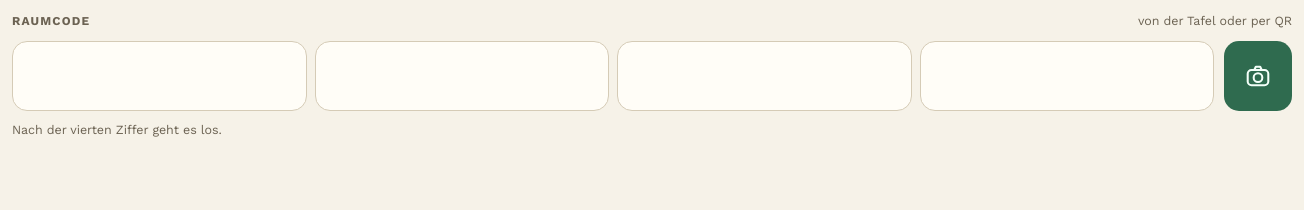
it: RoomCodeEntry › explains an incomplete code accessibly and clears the error
Type "12" into the field named "Ziffer 1" at point(159, 76), box [12,41,306,111]
Then press Enter
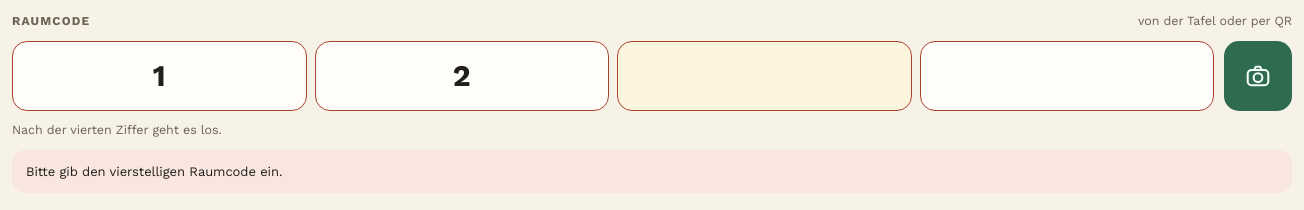
Expected: the message reads "Bitte gib den vierstelligen Raumcode ein.", [26,164,282,178]
Type "3" into the field named "Ziffer 3" at point(764, 76), box [617,41,912,111]
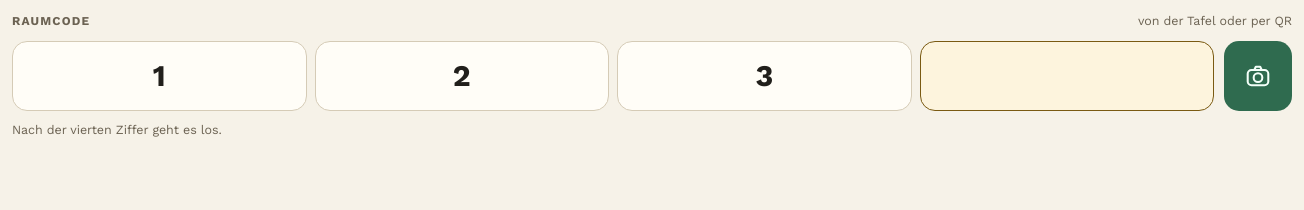
Expected: the message "Bitte gib den vierstelligen Raumcode ein." is gone
